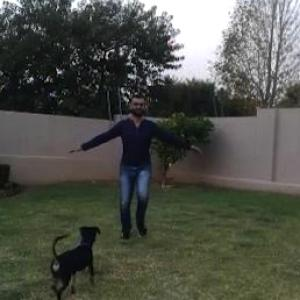land: (71, 89, 215, 264)
